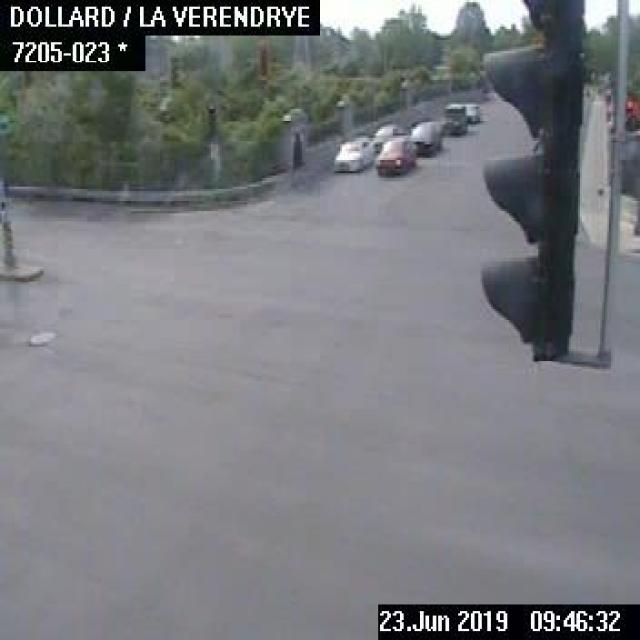vehicle: (329, 133, 375, 172), (376, 134, 416, 174), (410, 119, 442, 156), (440, 100, 469, 134), (371, 122, 407, 148), (464, 101, 478, 122)
